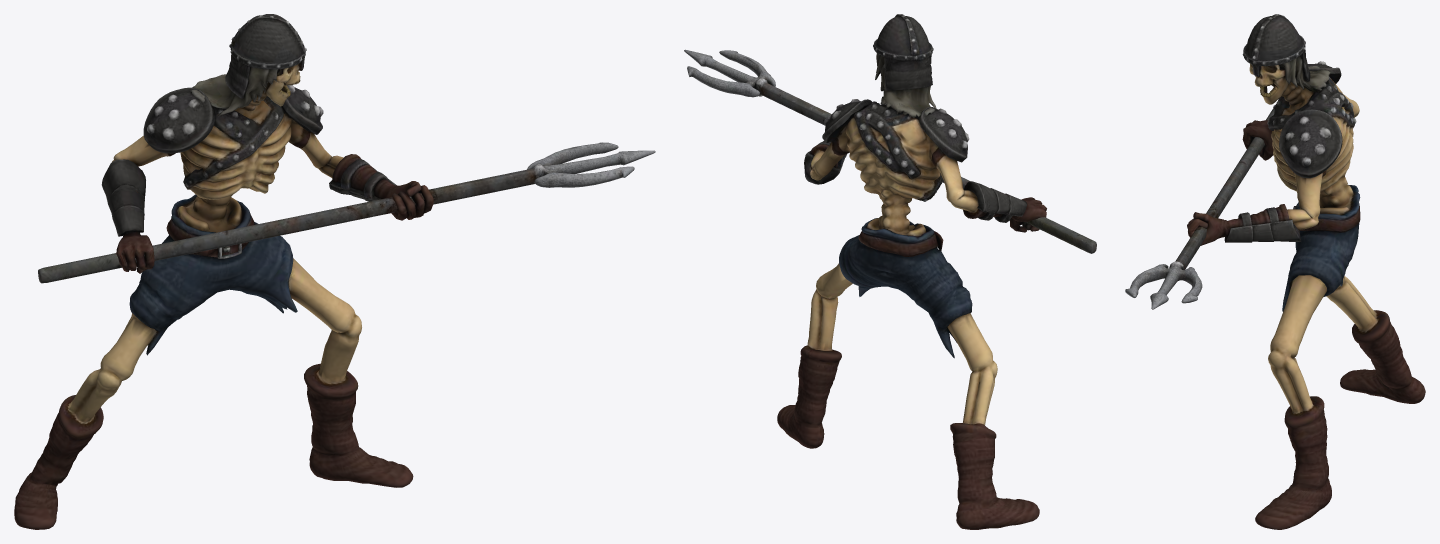
The model's file is MZ4250 - Skeleton Spearman_trident.glb.
The picture shows the model from 3 angles, left to right: view 1: azimuth 30°, elevation 25°; view 2: azimuth 150°, elevation 25°; view 3: azimuth 270°, elevation 25°; orthographic projection. The views are drawn at different scales.
Parts seen in each view (by area): view 1: Trident2.001; view 2: Trident2.001; view 3: Trident2.001.
Part boxes in pixels (bbox=[...]): Trident2.001: bbox=[14, 14, 655, 529]; Trident2.001: bbox=[684, 14, 1096, 529]; Trident2.001: bbox=[1125, 14, 1425, 529].
Bounding box in the file's own units: 37.36 × 32.65 × 19.61.
Materials: 2 (2 with a texture image).
